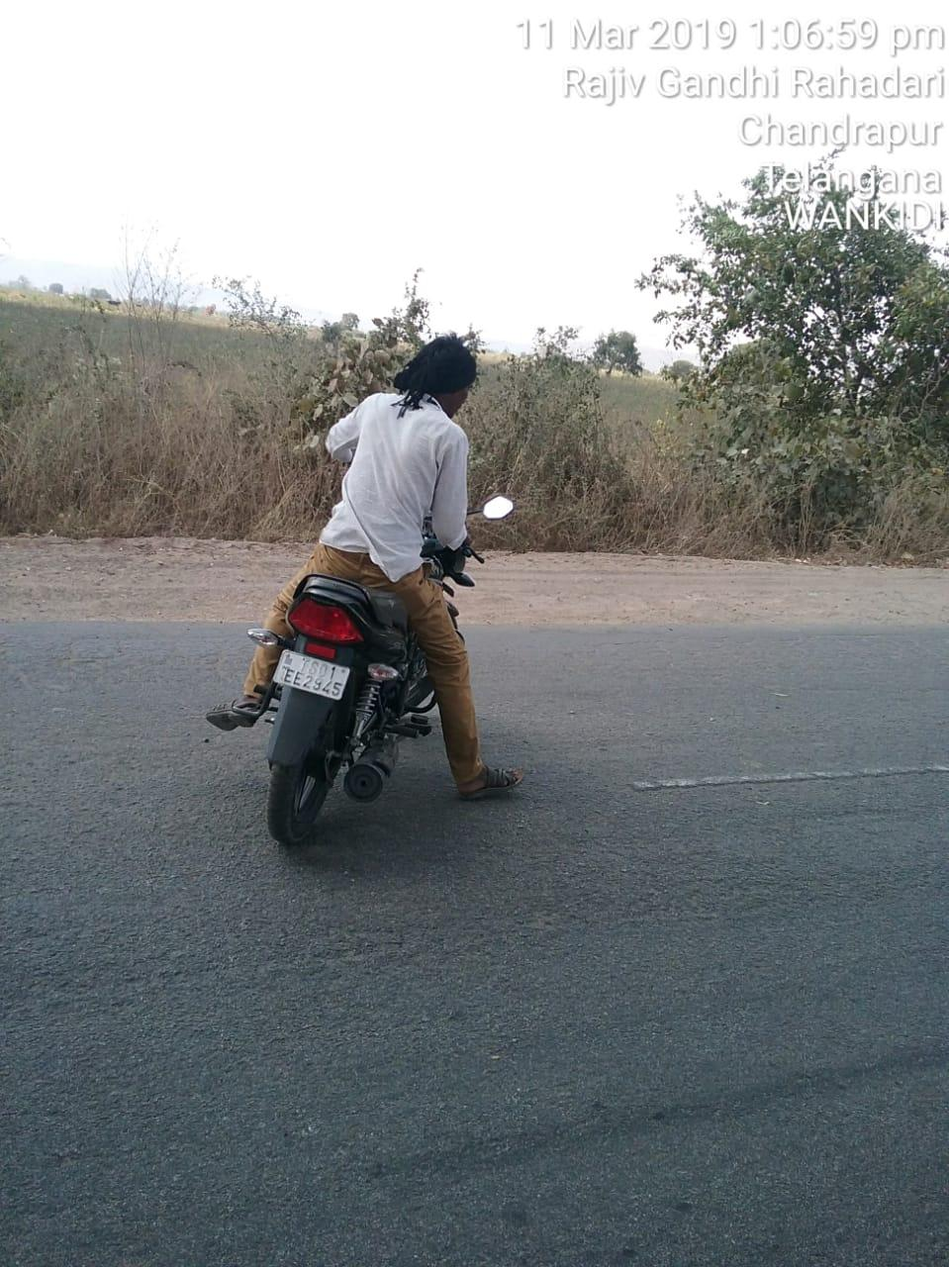plate: (261, 643, 356, 718)
